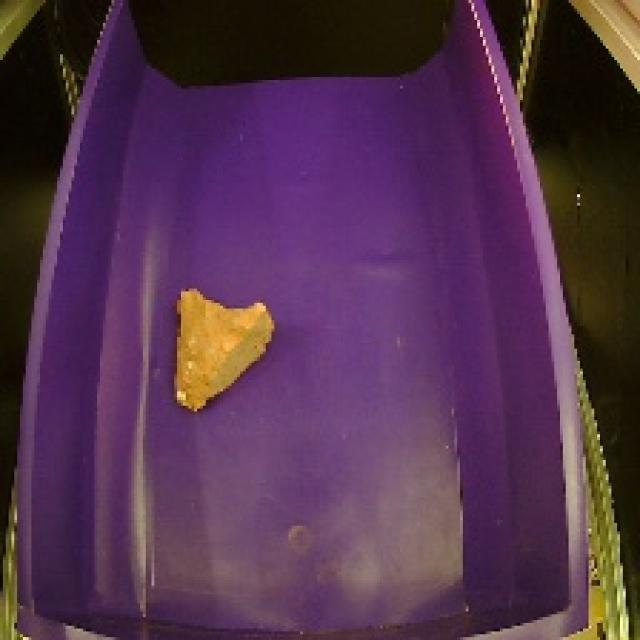brick: (161, 286, 285, 420)
